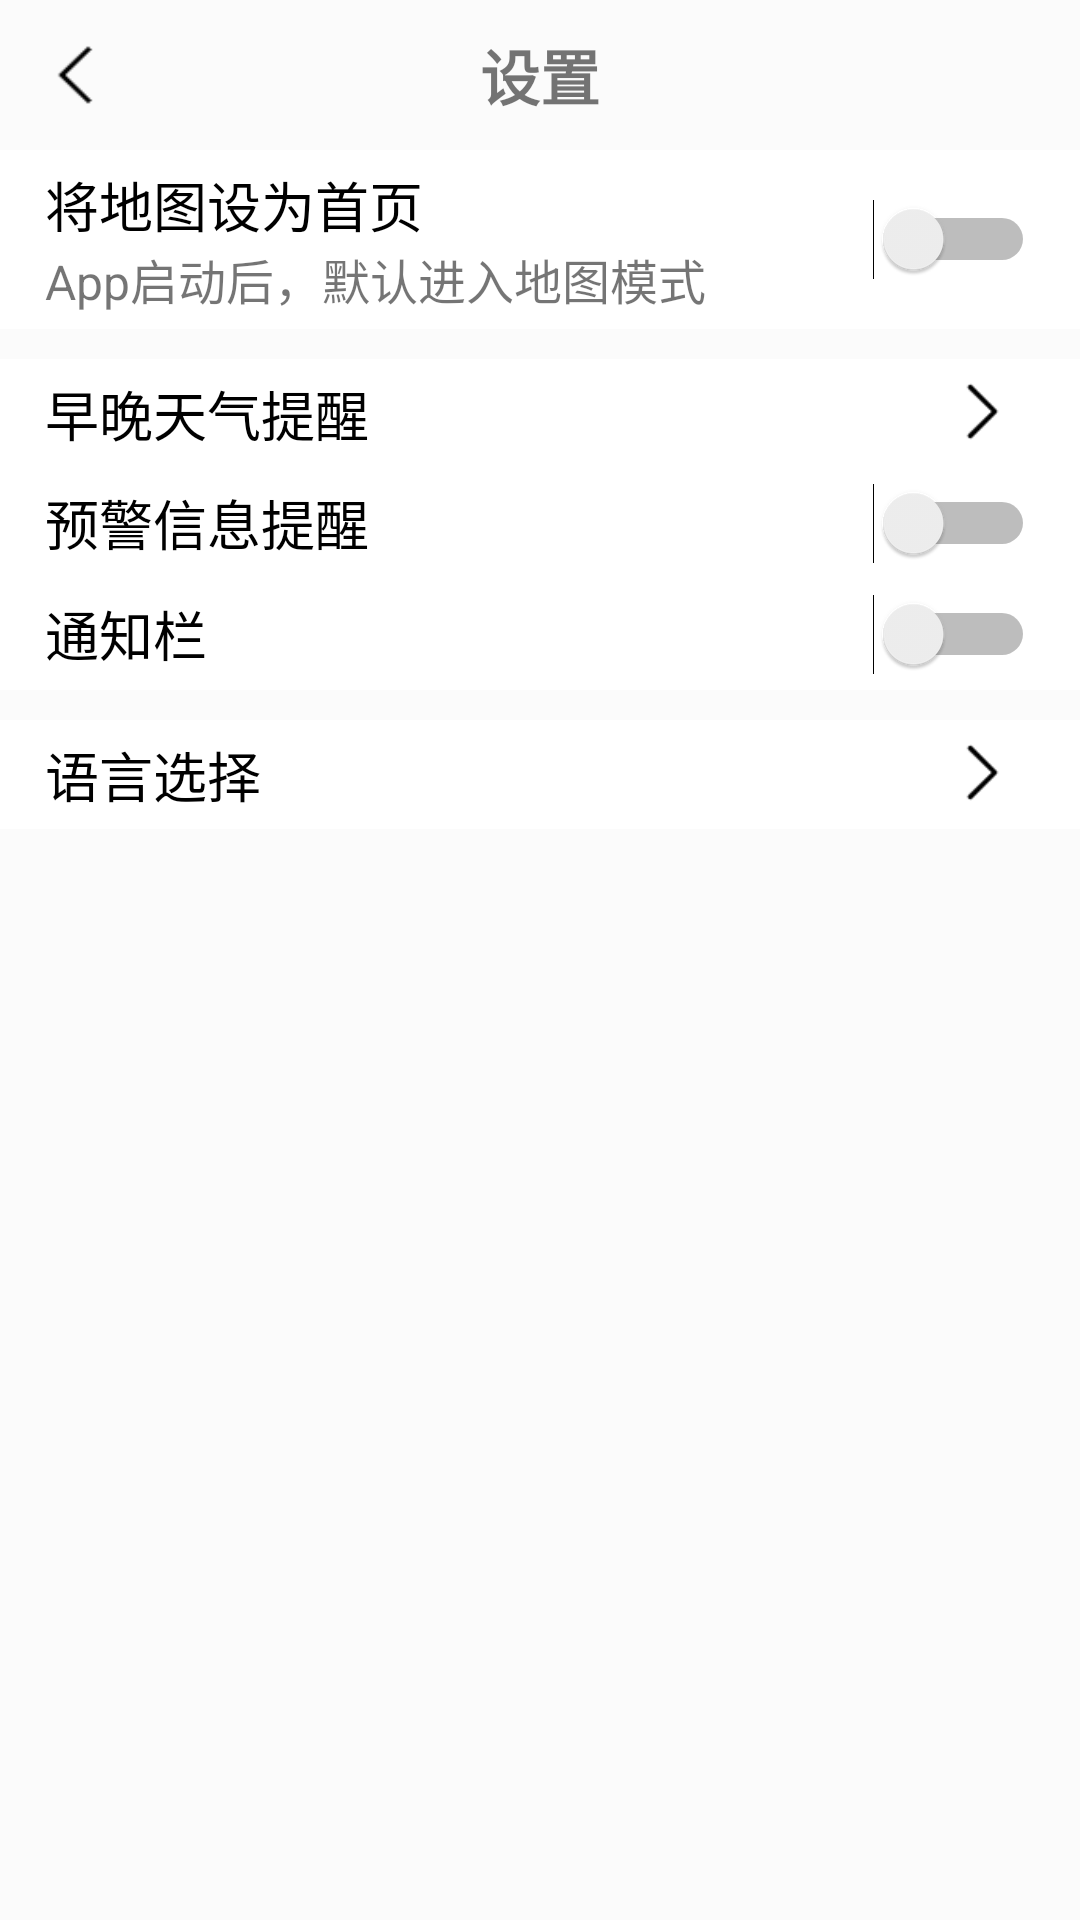

Where icons sit on this 1080px x 1920px app screen, as {"left": x1, "top": y1, "right": x2, "bottom": y2}:
left arrow: {"left": 58, "top": 46, "right": 93, "bottom": 104}
right arrow: {"left": 967, "top": 384, "right": 998, "bottom": 439}, {"left": 967, "top": 745, "right": 998, "bottom": 800}
